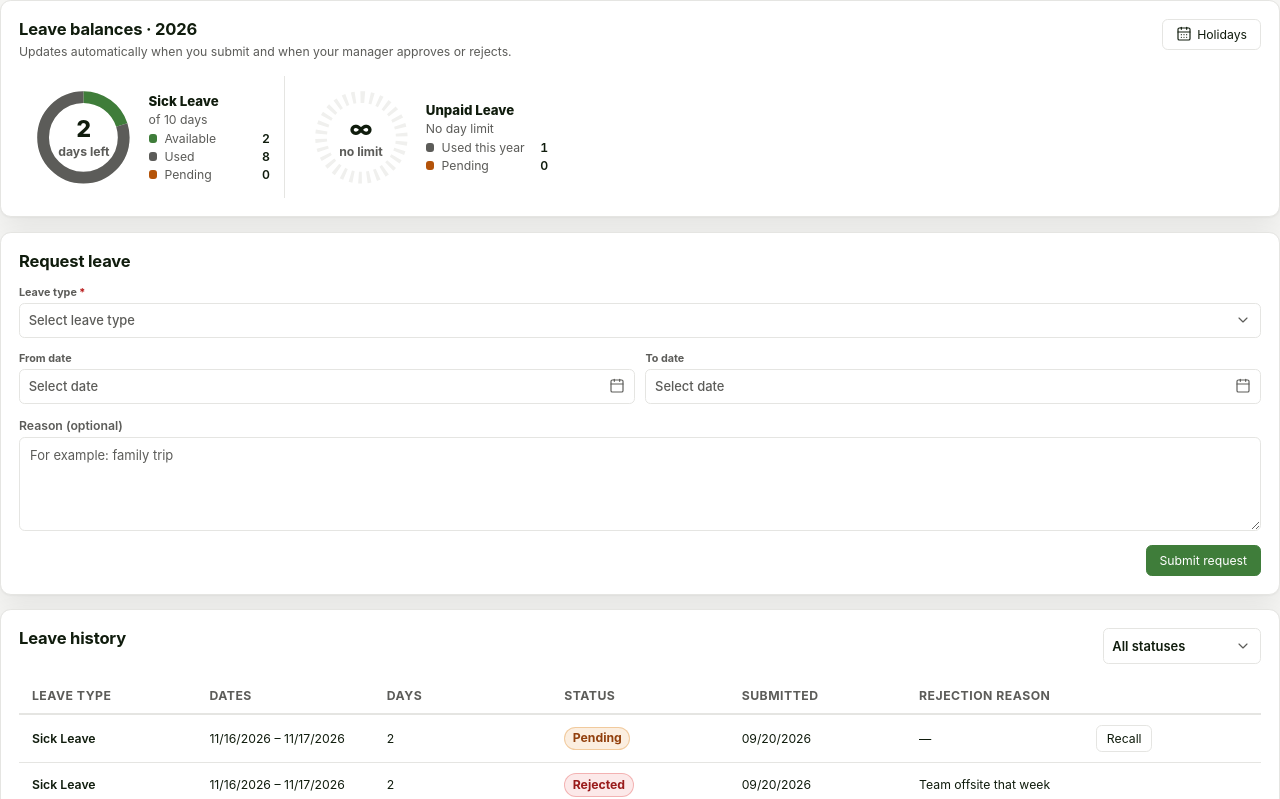
it: LeavesWorkspace › blocks a request over the balance with a pop-up and never splits it
Click the dropdown labelled "leave type" at point(82, 320), box [19,302,1261,338]
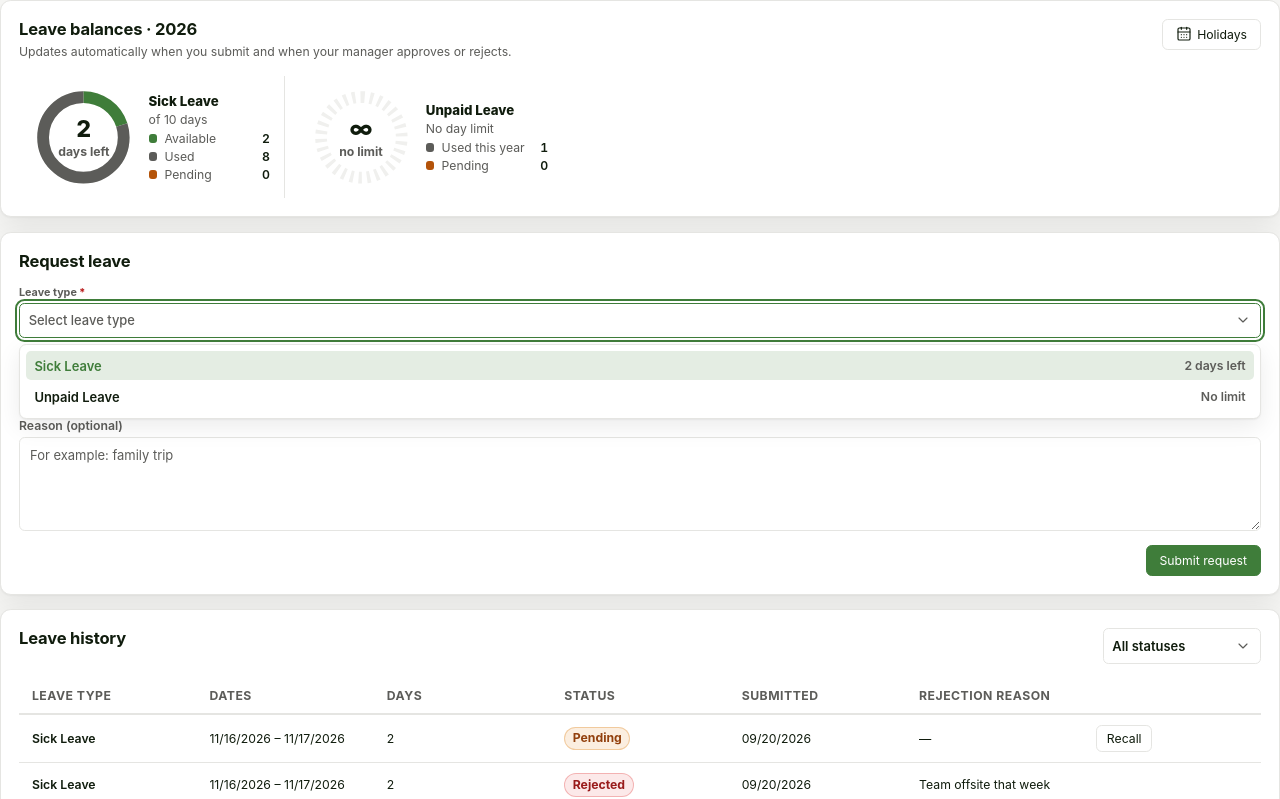
Click the option "Sick Leave 2 days left" at point(68, 366), box [26,351,1254,380]
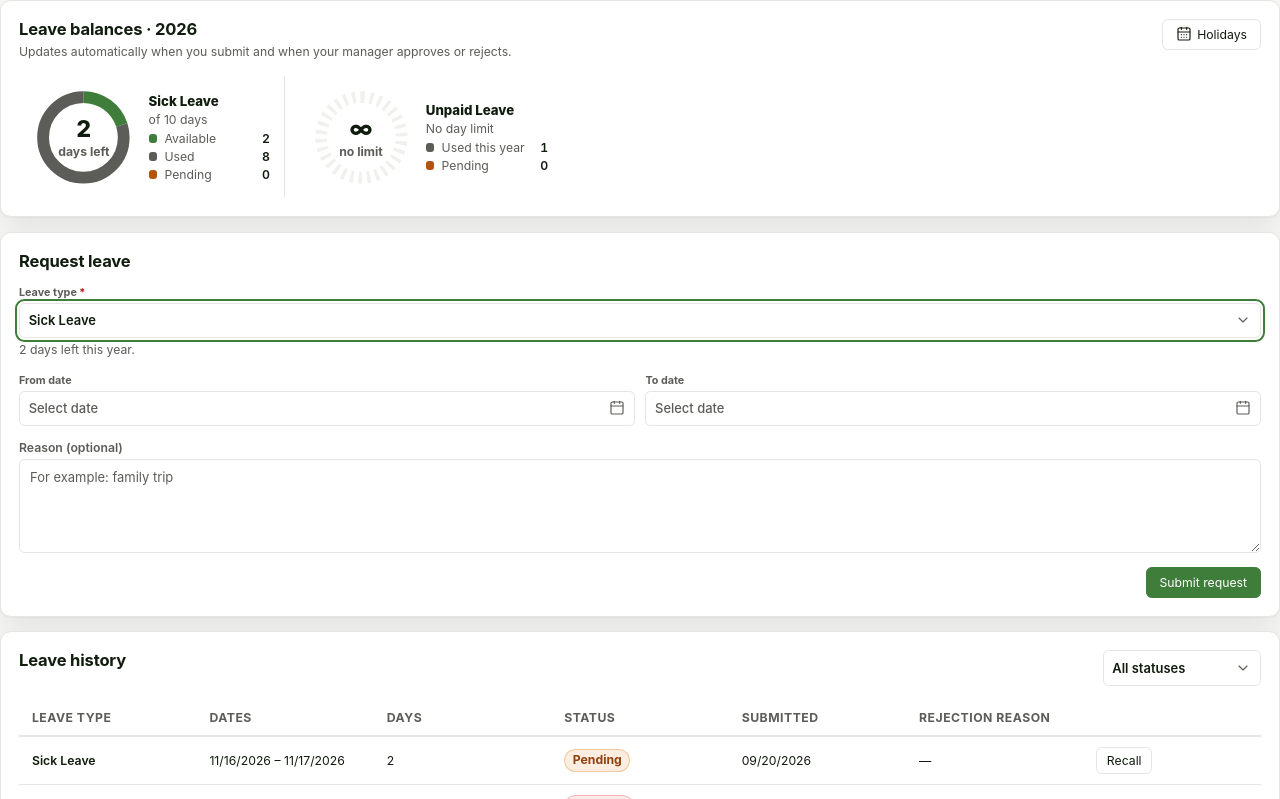
Type "2026-11-16" into the date field labelled "From date Select date" at point(327, 400), box [19,374,635,426]
Type "2026-11-19" into the date field labelled "To date Select date" at point(953, 400), box [645,374,1261,426]
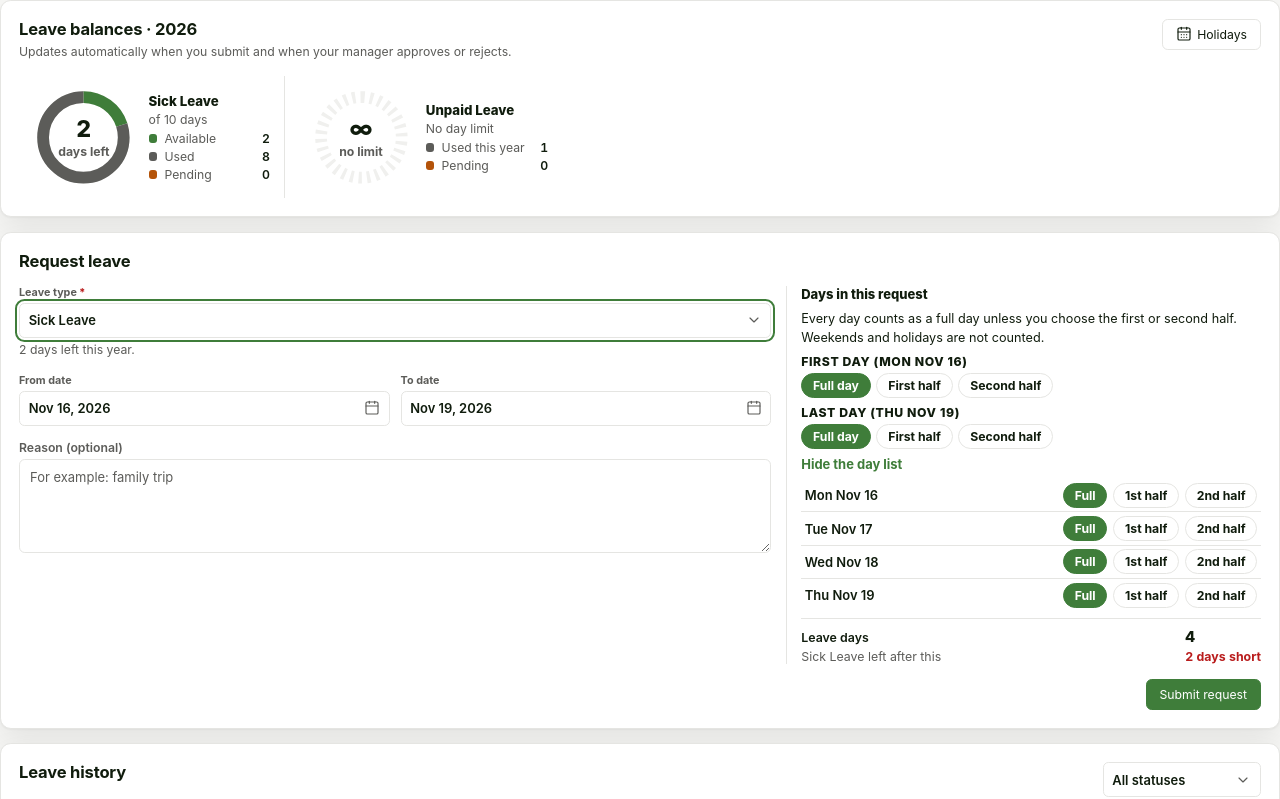
Expected: the text "Leave days" is shown, [801,630,869,645]
Click the button "Submit request" at point(1203, 694), box [1146,679,1261,710]
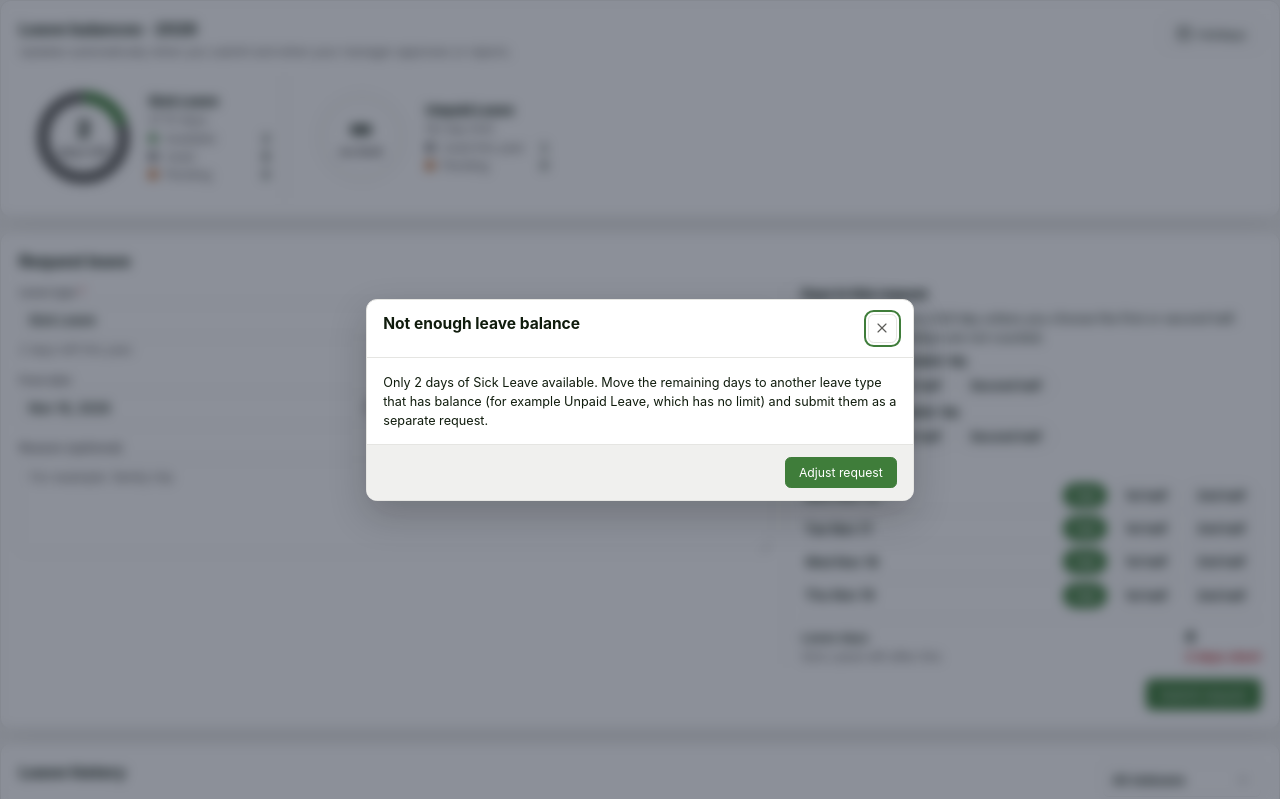
Expected: the dialog "Not enough leave balance" shows "Only 2 days of Sick Leave available", [383,375,896,428]
Expected: the dialog "Not enough leave balance" shows "Unpaid Leave", [383,375,896,428]
Click the button "Adjust request" at point(841, 473), box [785,457,897,488]
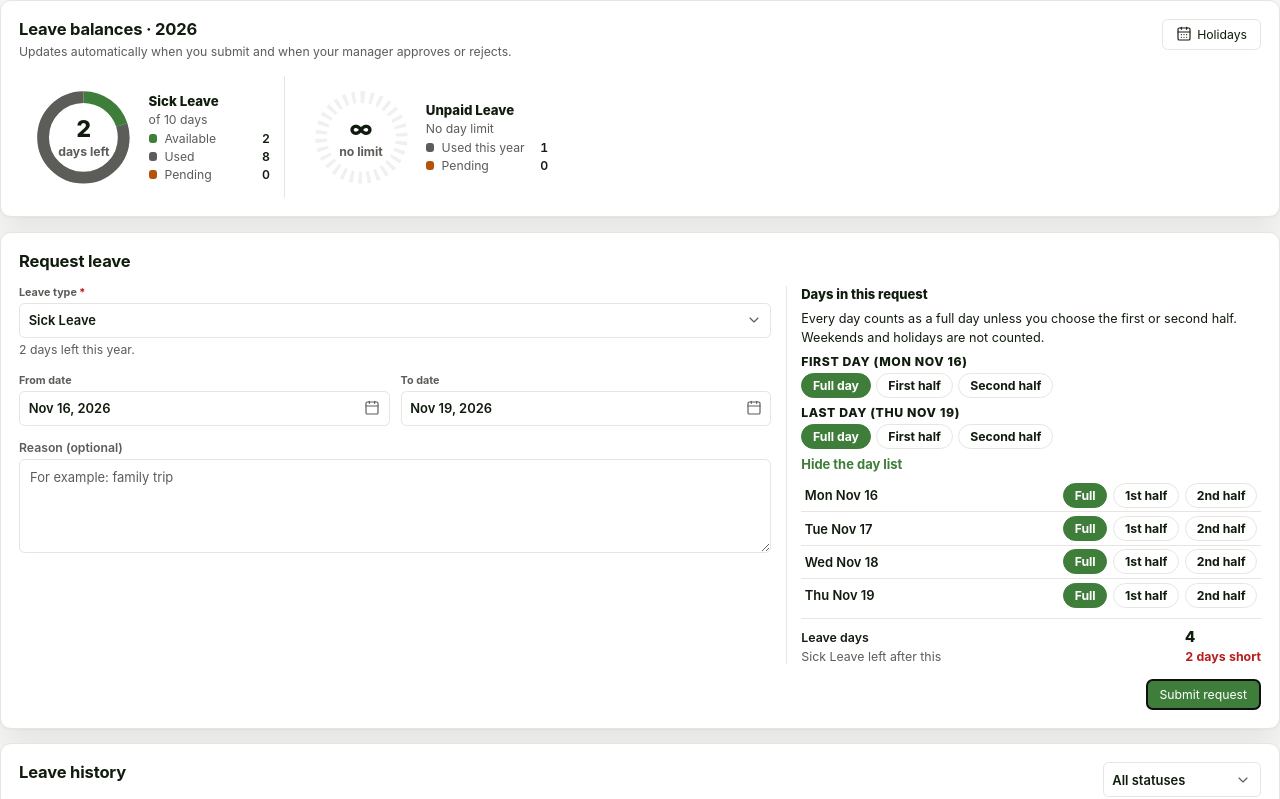
Click the button "Submit request" at point(1203, 694), box [1146,679,1261,710]
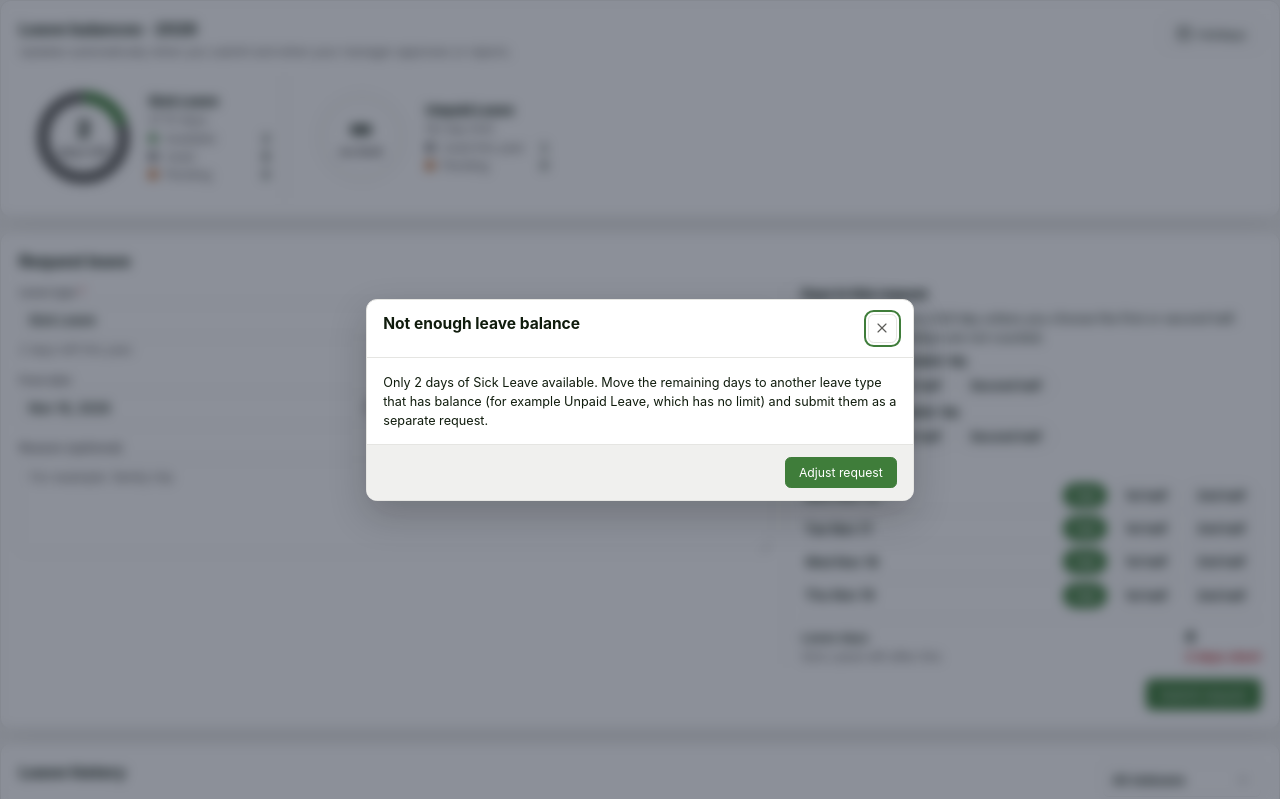
Expected: the dialog "Not enough leave balance" is shown, [366,299,914,501]
